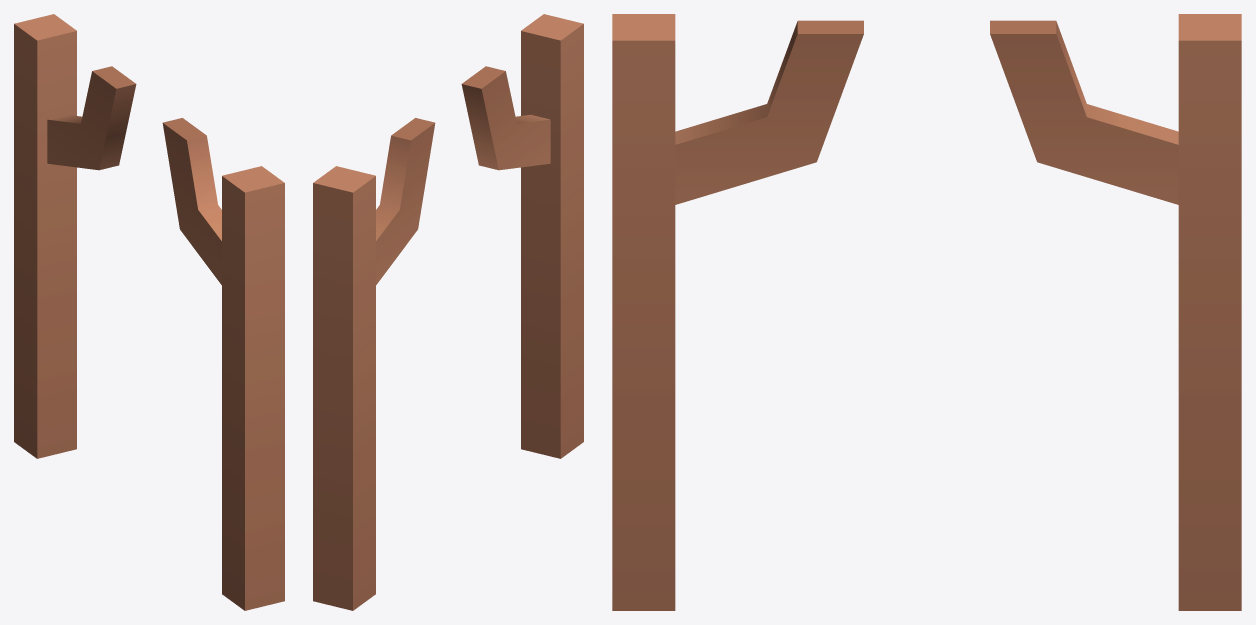
File: balcony-wall.glb
3 renders of one model, left to right at view 1: azimuth 30°, elevation 25°; view 2: azimuth 150°, elevation 25°; view 3: azimuth 270°, elevation 25°, orthographic. The views are drawn at different scales.
Parts seen in each view (by area): view 1: balcony-wall; view 2: balcony-wall; view 3: balcony-wall.
Boxes of the visible parts, x1,y1,x2,y2 form: balcony-wall: (14,14,284,610); balcony-wall: (313,14,583,610); balcony-wall: (612,14,1241,610).
Bounding box in the file's own units: 0.1 × 1 × 1.
Materials: 1 (1 with a texture image).
